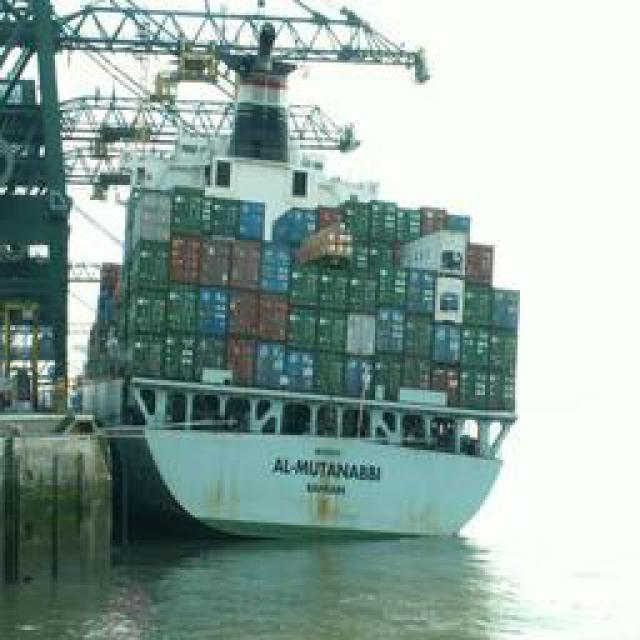Ship: (107, 170, 517, 543)
